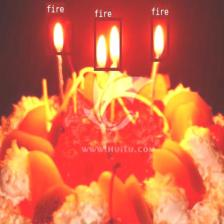fire: (93, 17, 122, 70), (46, 13, 74, 54), (150, 15, 168, 61)
